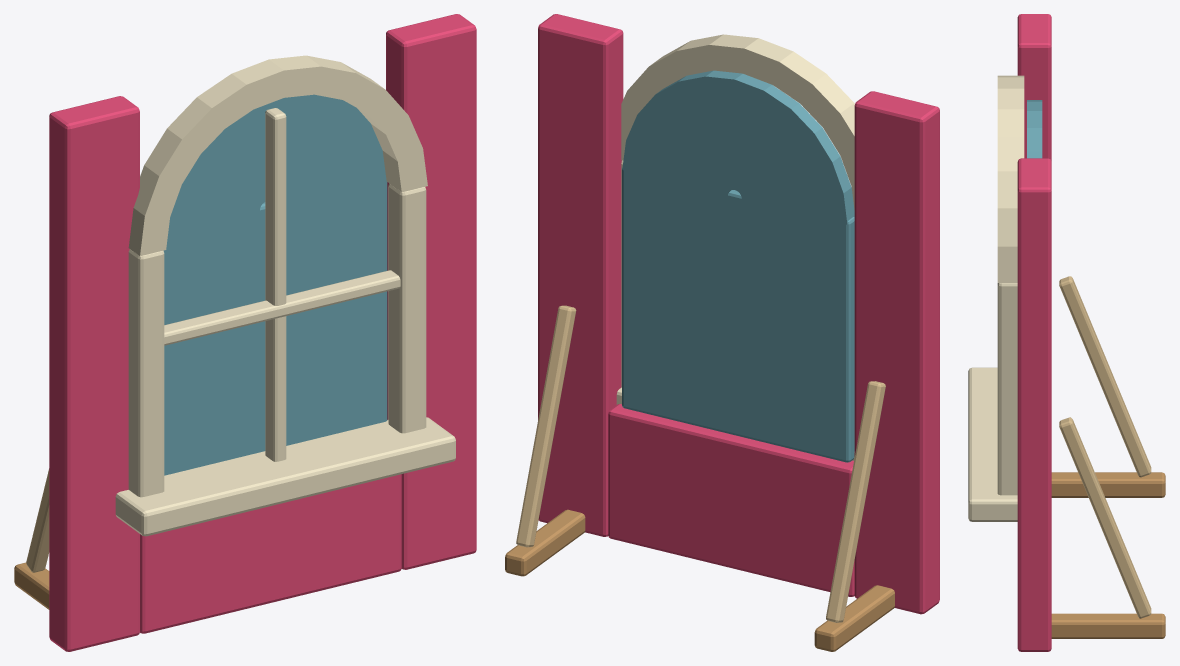
Rendered from S007_arched_window.glb.
3 views of the same model, side by side, from view 1: azimuth 30°, elevation 25°; view 2: azimuth 150°, elevation 25°; view 3: azimuth 270°, elevation 25° (orthographic). The views are drawn at different scales.
Visible parts, largest first — view 1: window_glass, arch_sidewall, arch_sidewall.001, window_lower_wall, window_sill, arch_window_side.001, arch_window_side, central_mullion, window_crossbar, arched_glass_00, arched_glass_01, arched_glass_02 (+22 smaller); view 2: window_glass, arch_sidewall, arch_sidewall.001, window_lower_wall, rear_triangular_brace.001, rear_triangular_brace, rear_plywood_foot.001, rear_plywood_foot, arched_glass_09, arched_glass_08, arched_glass_10, arched_glass_07 (+16 smaller); view 3: arch_sidewall.001, window_sill, arch_window_side.001, arch_sidewall, rear_triangular_brace, rear_triangular_brace.001, rear_plywood_foot.001, rear_plywood_foot, arch_window_frame_03, arch_window_frame_01, arch_window_frame_04, arch_window_frame_02 (+4 smaller).
Boxes of the visible parts, x1,y1,x2,y2 form: window_glass: (163, 180, 387, 475); arch_sidewall: (49, 96, 139, 651); arch_sidewall.001: (386, 14, 476, 569); window_lower_wall: (140, 474, 401, 633); window_sill: (115, 417, 455, 536); arch_window_side.001: (388, 183, 426, 433); arch_window_side: (128, 249, 164, 497); central_mullion: (265, 108, 286, 461); window_crossbar: (164, 270, 400, 345); arched_glass_00: (286, 149, 386, 203); arched_glass_01: (286, 122, 381, 198); arched_glass_02: (286, 103, 369, 192); window_glass: (622, 167, 854, 462); arch_sidewall: (854, 91, 939, 614); arch_sidewall.001: (538, 14, 623, 536); window_lower_wall: (608, 404, 854, 596); rear_triangular_brace.001: (516, 305, 576, 547); rear_triangular_brace: (826, 381, 885, 622); rear_plywood_foot.001: (505, 509, 585, 576); rear_plywood_foot: (814, 585, 894, 651); arched_glass_09: (740, 128, 840, 194); arched_glass_08: (738, 103, 822, 192); arched_glass_10: (741, 156, 851, 196); arched_glass_07: (736, 85, 798, 191); arch_sidewall.001: (1017, 158, 1051, 651); window_sill: (968, 367, 1017, 521); arch_window_side.001: (997, 283, 1017, 495); arch_sidewall: (1017, 14, 1051, 160); rear_triangular_brace: (1059, 276, 1151, 477); rear_triangular_brace.001: (1059, 417, 1151, 618); rear_plywood_foot.001: (1051, 613, 1165, 638); rear_plywood_foot: (1051, 472, 1165, 497); arch_window_frame_03: (997, 137, 1024, 171); arch_window_frame_01: (997, 208, 1017, 246); arch_window_frame_04: (997, 109, 1024, 137); arch_window_frame_02: (997, 171, 1017, 208).
Bounding box in the file's own units: 2.2 × 2.77 × 1.04.
